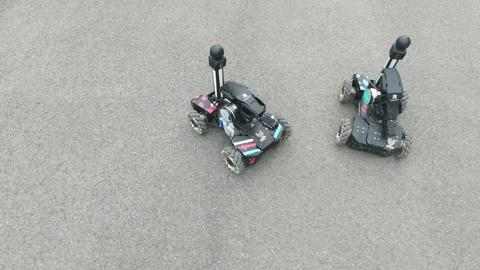chariot: (178, 39, 297, 181), (335, 29, 417, 170)
